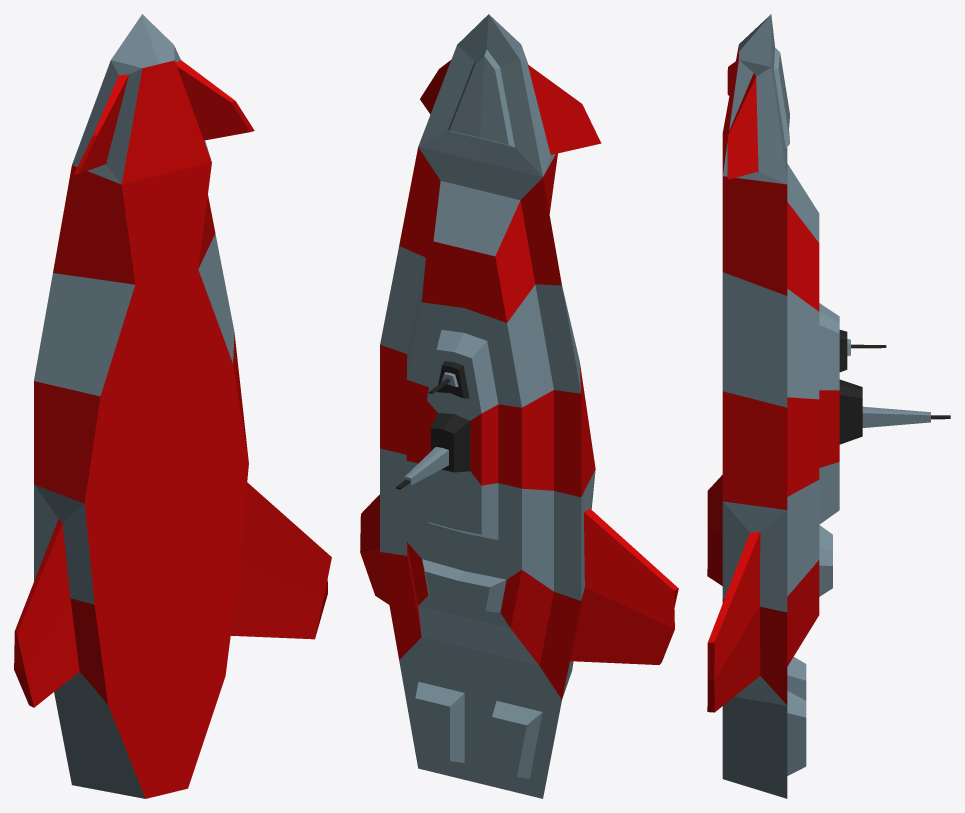
The model's file is Ravager.fbx.
The picture shows the model from 3 angles, left to right: view 1: azimuth 30°, elevation 25°; view 2: azimuth 150°, elevation 25°; view 3: azimuth 270°, elevation 25°; orthographic projection.
Visible parts, largest first — view 1: Ravager; view 2: Ravager; view 3: Ravager.
Part boxes in pixels (x1,y1,x2,y2): Ravager: (14, 14, 331, 798); Ravager: (360, 14, 678, 798); Ravager: (707, 14, 950, 798).
Bounding box in the file's own units: 1114 × 2577 × 752.
